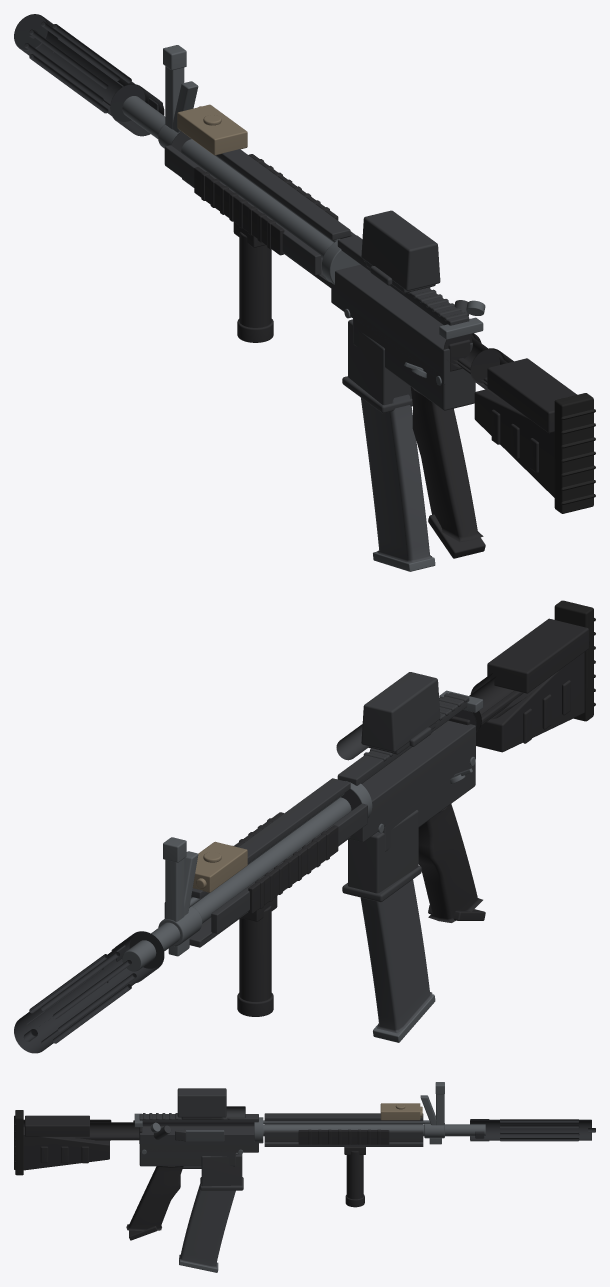
3 renders of one model, top to bottom at view 1: azimuth 30°, elevation 25°; view 2: azimuth 150°, elevation 25°; view 3: azimuth 270°, elevation 25°, orthographic. The views are drawn at different scales.
Visible parts, largest first — view 1: M4_Stock_Assembly, M4_Upper_Receiver, M4_STANAG_CurvedMag, M4_Lower_Receiver_Assembly, M4_SOCOM_Tactical_Suppressor, M4_A2_Ergonomic_PistolGrip, M4_KAC_RAS_Handguard, M4_EOTech_Sight, M4_Rubber_Buttpad, M4_Gov_Barrel, M4_Vertical_Foregrip, M4_KAC_Rail_Covers (+4 smaller); view 2: M4_Stock_Assembly, M4_Upper_Receiver, M4_STANAG_CurvedMag, M4_SOCOM_Tactical_Suppressor, M4_Lower_Receiver_Assembly, M4_EOTech_Sight, M4_KAC_RAS_Handguard, M4_A2_Ergonomic_PistolGrip, M4_Gov_Barrel, M4_Vertical_Foregrip, M4_A2_FrontSightBase, M4_KAC_Rail_Covers (+3 smaller); view 3: M4_Stock_Assembly, M4_Upper_Receiver, M4_STANAG_CurvedMag, M4_KAC_RAS_Handguard, M4_SOCOM_Tactical_Suppressor, M4_Lower_Receiver_Assembly, M4_A2_Ergonomic_PistolGrip, M4_EOTech_Sight, M4_Gov_Barrel, M4_KAC_Rail_Covers, M4_Vertical_Foregrip, M4_A2_FrontSightBase (+4 smaller).
Part boxes in pixels (box(x1,y1,x2,y2)): M4_Stock_Assembly: box(443, 333, 576, 497); M4_Upper_Receiver: box(331, 235, 472, 384); M4_STANAG_CurvedMag: box(361, 394, 432, 562); M4_Lower_Receiver_Assembly: box(342, 311, 475, 413); M4_SOCOM_Tactical_Suppressor: box(14, 14, 164, 136); M4_A2_Ergonomic_PistolGrip: box(410, 387, 483, 542); M4_KAC_RAS_Handguard: box(164, 131, 355, 287); M4_EOTech_Sight: box(361, 210, 440, 293); M4_Rubber_Buttpad: box(554, 393, 595, 513); M4_Gov_Barrel: box(122, 96, 333, 259); M4_Vertical_Foregrip: box(233, 222, 273, 342); M4_KAC_Rail_Covers: box(194, 154, 338, 255); M4_Stock_Assembly: box(448, 618, 589, 752); M4_Upper_Receiver: box(337, 692, 476, 842); M4_STANAG_CurvedMag: box(360, 832, 432, 1033); M4_SOCOM_Tactical_Suppressor: box(14, 931, 164, 1053); M4_Lower_Receiver_Assembly: box(342, 755, 475, 902); M4_EOTech_Sight: box(336, 672, 440, 760); M4_KAC_RAS_Handguard: box(164, 778, 367, 947); M4_A2_Ergonomic_PistolGrip: box(418, 804, 482, 922); M4_Gov_Barrel: box(122, 797, 351, 971); M4_Vertical_Foregrip: box(237, 896, 277, 1016); M4_A2_FrontSightBase: box(158, 837, 202, 956); M4_KAC_Rail_Covers: box(232, 812, 338, 913); M4_Stock_Assembly: box(23, 1115, 142, 1170); M4_Upper_Receiver: box(139, 1113, 258, 1152); M4_STANAG_CurvedMag: box(179, 1152, 238, 1267); M4_KAC_RAS_Handguard: box(264, 1113, 423, 1146); M4_SOCOM_Tactical_Suppressor: box(470, 1119, 595, 1141); M4_Lower_Receiver_Assembly: box(139, 1148, 243, 1190); M4_A2_Ergonomic_PistolGrip: box(126, 1166, 183, 1231); M4_EOTech_Sight: box(177, 1088, 245, 1119); M4_Gov_Barrel: box(263, 1124, 485, 1136); M4_KAC_Rail_Covers: box(298, 1129, 389, 1144); M4_Vertical_Foregrip: box(344, 1146, 365, 1207); M4_A2_FrontSightBase: box(420, 1082, 444, 1144).
Bounding box in the file's own units: 0.1053 × 0.4888 × 1.39.
